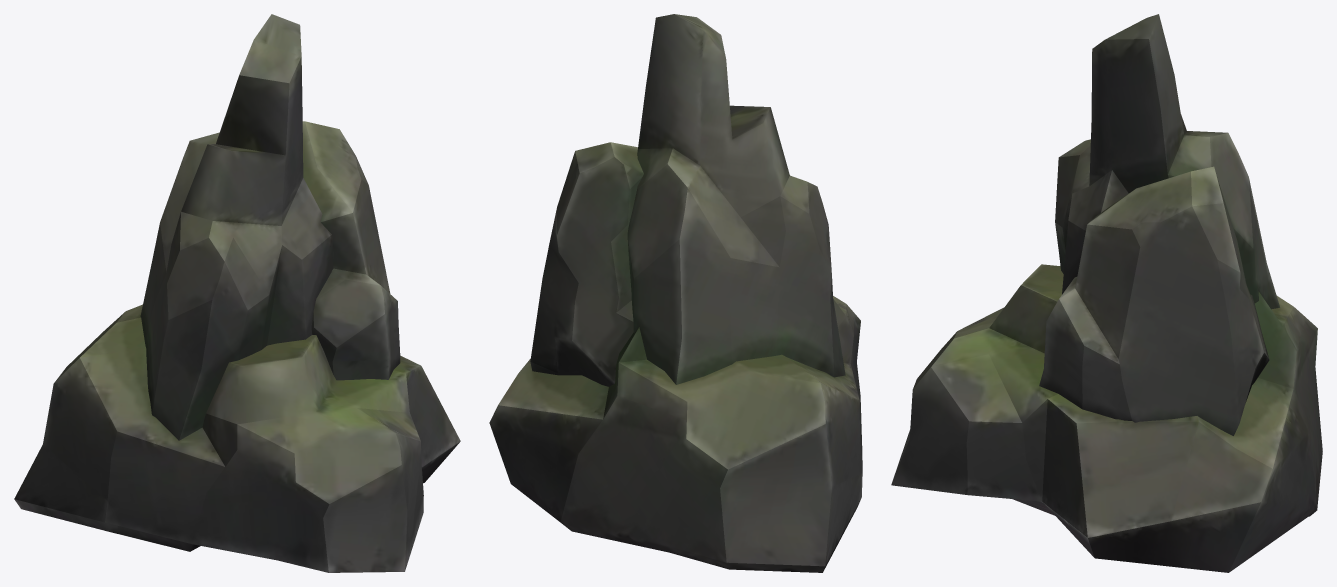
Rendered from rock-transformed.glb.
The picture shows the model from 3 angles, left to right: view 1: azimuth 30°, elevation 25°; view 2: azimuth 150°, elevation 25°; view 3: azimuth 270°, elevation 25°; orthographic projection. The views are drawn at different scales.
Parts seen in each view (by area): view 1: Rock_5; view 2: Rock_5; view 3: Rock_5.
Part boxes in pixels (x1,y1,x2,y2): Rock_5: (14, 14, 460, 572); Rock_5: (489, 14, 862, 572); Rock_5: (891, 14, 1322, 572).
Size of the model in its own units: 1.29 by 1.69 by 1.32.
Materials: 1 (1 with a texture image).
